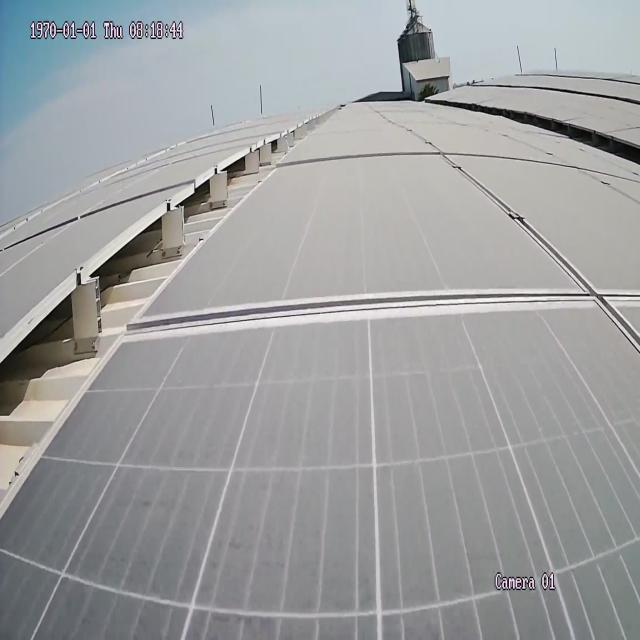interior panel: (137, 159, 640, 363)
outher panel: (2, 103, 340, 510), (468, 103, 640, 168)
